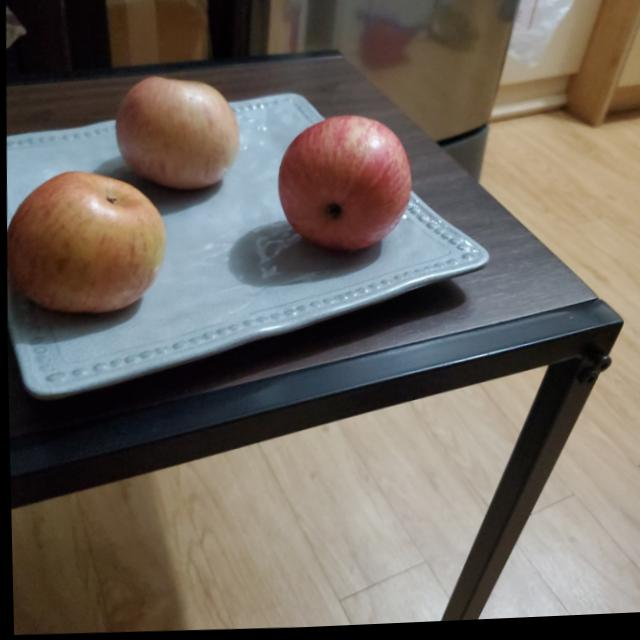apple: (5, 168, 168, 321), (272, 112, 416, 259), (115, 76, 243, 196)
